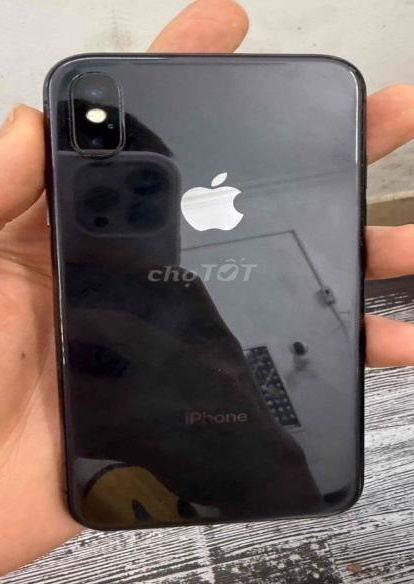scratch: (208, 349, 229, 390), (108, 93, 135, 120), (140, 494, 182, 511), (151, 468, 182, 489), (76, 146, 102, 166), (328, 52, 342, 67)
